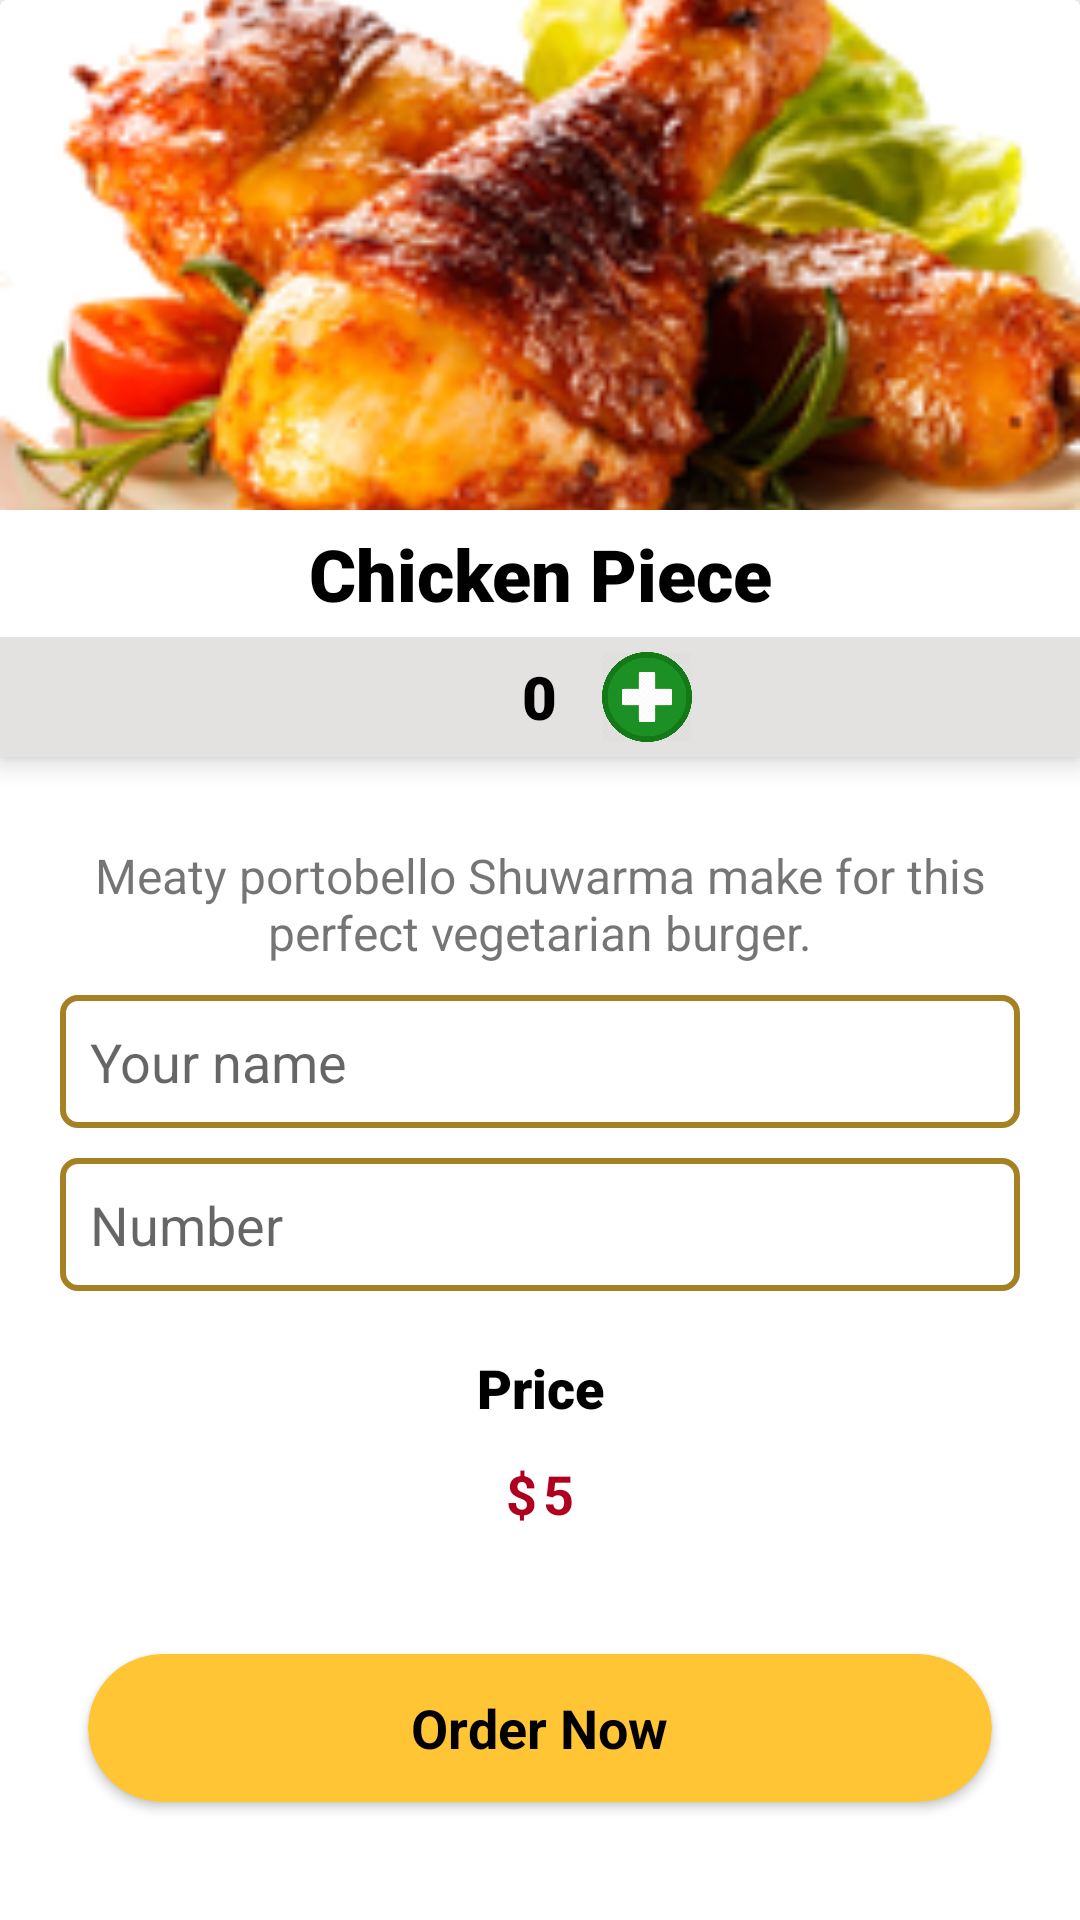

Point at icon controls on the screen. Image size 1080 x 1920, points as (x=x, y=y).
pluss: (x=647, y=697)
